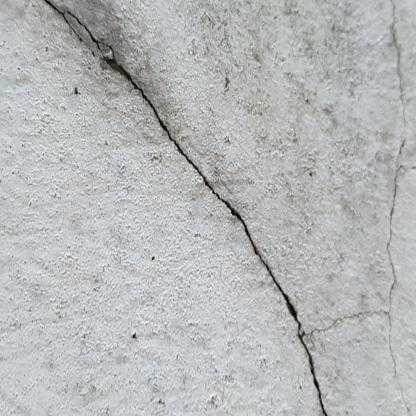crack: (44, 0, 327, 416)
